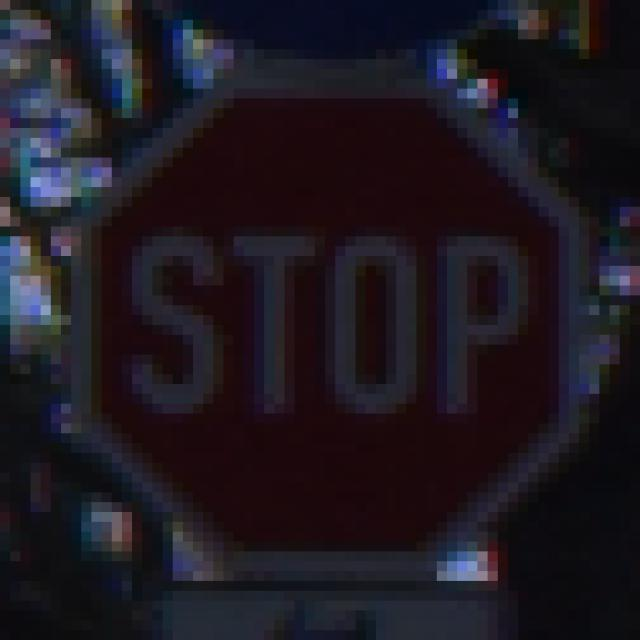STOP: (62, 60, 590, 592)
